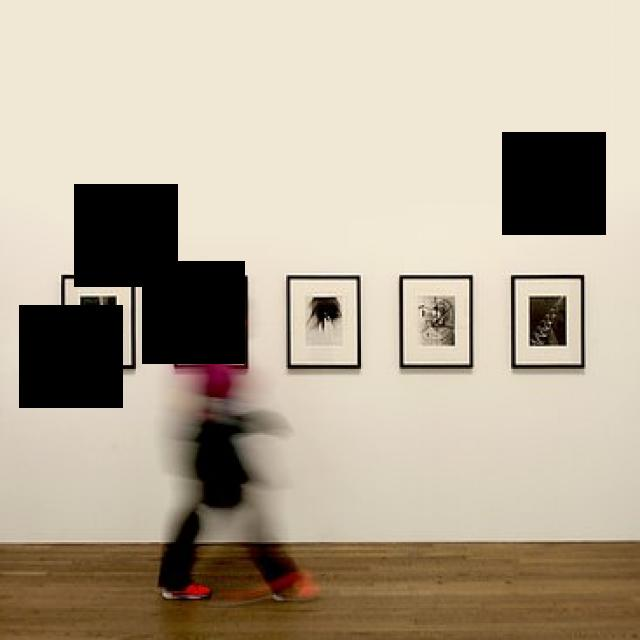Tablo: (287, 277, 359, 366), (176, 277, 247, 366), (63, 277, 133, 367), (401, 277, 471, 366), (513, 277, 582, 367)
